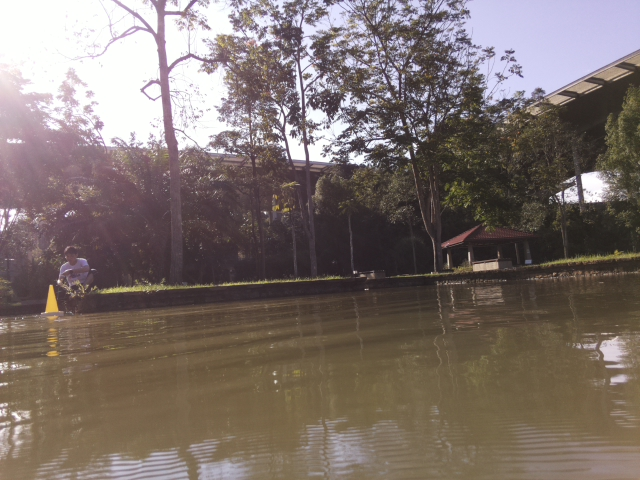checkpoint: (40, 284, 63, 317)
